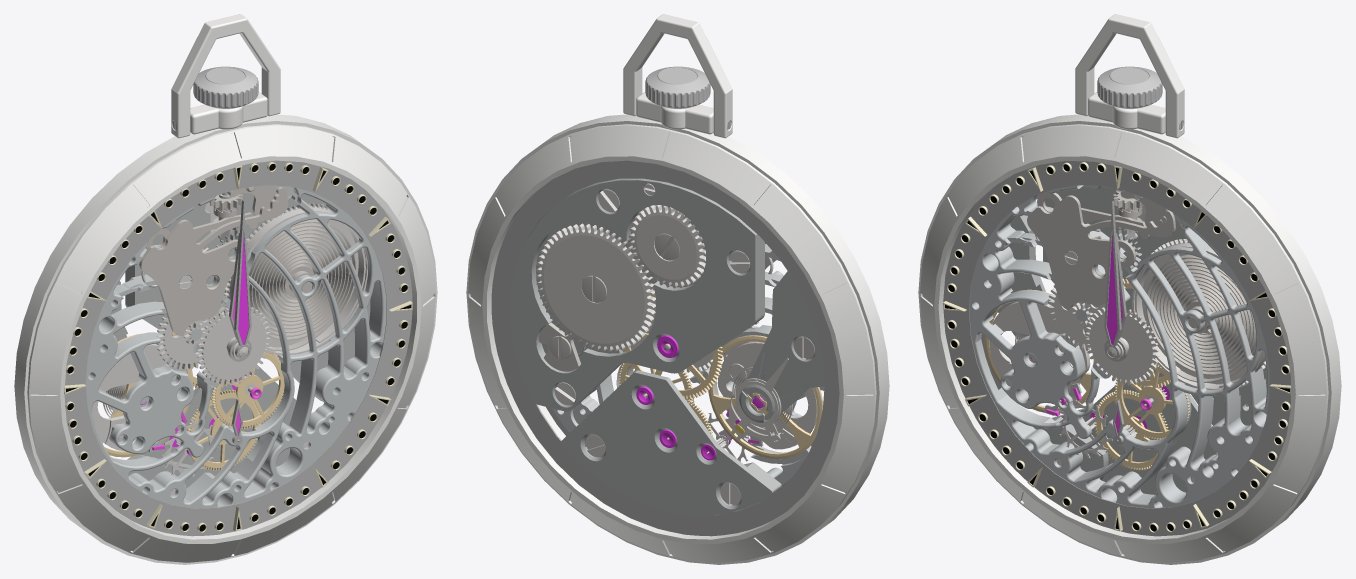
File: ETA6497-1_LowPoly.glb
3 renders of one model, left to right at view 1: azimuth 30°, elevation 25°; view 2: azimuth 150°, elevation 25°; view 3: azimuth 330°, elevation 25°, orthographic.
Visible parts, largest first — view 1: CaseTopBody, 6497_SkeltonFront, CaseWatchFace, CaseCenterRingBody, 445_SettingLeverJumper, 180_BarrelMainSpring, CaseCrownClipRing, 180_BarrelDrum_Gear, 110_TrainWheelBridge, 105_BarrelBridge, 250_HourWheel, WindingKnob (+11 smaller); view 2: CaseBottomBody, 105_BarrelBridge, CaseWatchRearFace, 110_TrainWheelBridge, 415_RatchetWheel, CaseCenterRingBody, 121_BalancingBridge, CaseCrownClipRing, 420_CrownWheel, 6497_SkeltonFront, 125_PalletBridge, WindingKnob (+8 smaller); view 3: CaseTopBody, 6497_SkeltonFront, CaseWatchFace, CaseCenterRingBody, 445_SettingLeverJumper, 180_BarrelMainSpring, 110_TrainWheelBridge, CaseCrownClipRing, 250_HourWheel, 105_BarrelBridge, 180_BarrelDrum_Gear, WindingKnob (+13 smaller).
Boxes of the visible parts, <box> form: CaseTopBody: <box>27,124,435,562</box>; 6497_SkeltonFront: <box>85,185,386,508</box>; CaseWatchFace: <box>64,160,412,536</box>; CaseCenterRingBody: <box>14,114,437,564</box>; 445_SettingLeverJumper: <box>139,187,288,335</box>; 180_BarrelMainSpring: <box>247,219,356,351</box>; CaseCrownClipRing: <box>171,14,280,138</box>; 180_BarrelDrum_Gear: <box>223,203,367,355</box>; 110_TrainWheelBridge: <box>127,365,296,488</box>; 105_BarrelBridge: <box>125,193,370,400</box>; 250_HourWheel: <box>197,307,271,385</box>; WindingKnob: <box>193,66,258,108</box>; CaseBottomBody: <box>468,124,876,562</box>; 105_BarrelBridge: <box>510,178,764,411</box>; CaseWatchRearFace: <box>491,160,839,536</box>; 110_TrainWheelBridge: <box>561,370,781,515</box>; 415_RatchetWheel: <box>536,223,655,352</box>; CaseCenterRingBody: <box>466,114,889,564</box>; 121_BalancingBridge: <box>747,271,824,420</box>; CaseCrownClipRing: <box>623,14,732,138</box>; 420_CrownWheel: <box>628,205,705,288</box>; 6497_SkeltonFront: <box>551,193,824,487</box>; 125_PalletBridge: <box>717,341,817,449</box>; WindingKnob: <box>645,66,710,108</box>; CaseTopBody: <box>920,124,1328,562</box>; 6497_SkeltonFront: <box>969,185,1269,508</box>; CaseWatchFace: <box>943,161,1290,536</box>; CaseCenterRingBody: <box>918,114,1341,564</box>; 445_SettingLeverJumper: <box>1027,195,1175,310</box>; 180_BarrelMainSpring: <box>1146,254,1256,382</box>; 110_TrainWheelBridge: <box>1033,369,1217,494</box>; CaseCrownClipRing: <box>1075,14,1184,138</box>; 250_HourWheel: <box>1084,307,1158,384</box>; 105_BarrelBridge: <box>1043,185,1266,425</box>; 180_BarrelDrum_Gear: <box>1132,239,1266,389</box>; WindingKnob: <box>1097,66,1162,108</box>.
Bounding box in the file's own units: 4.8 × 5.93 × 0.6927.
